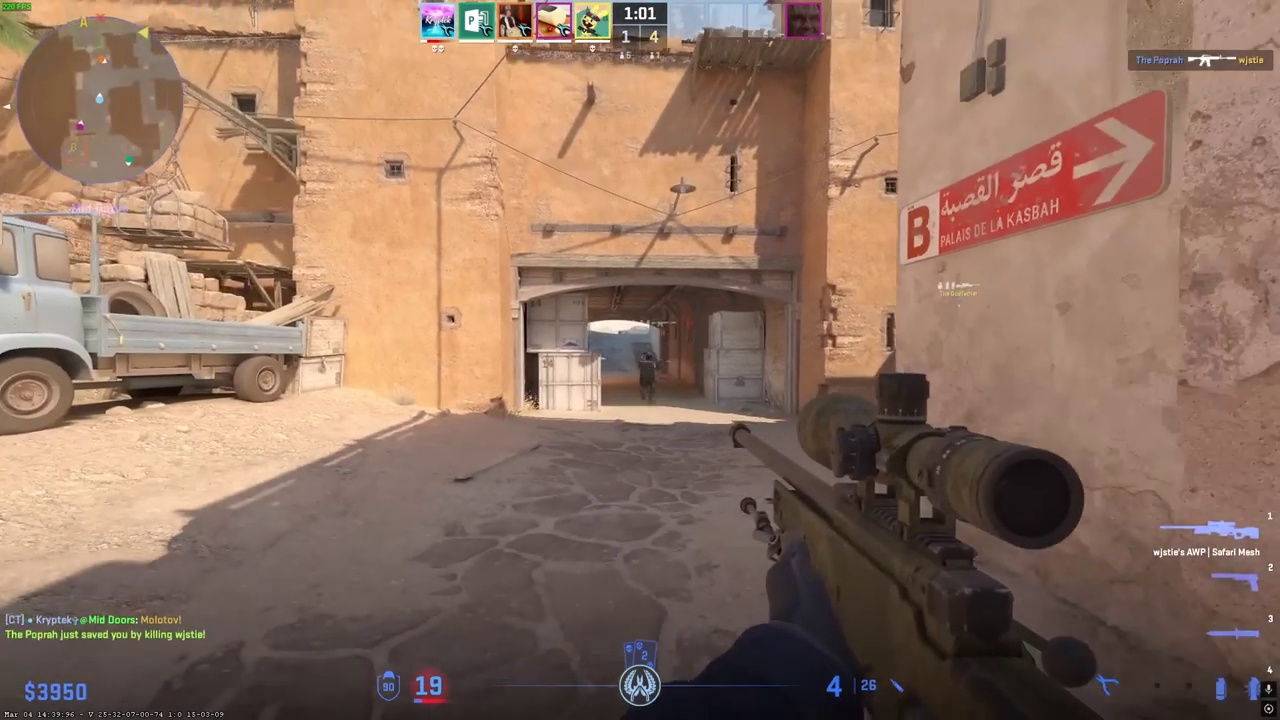CT: (638, 351, 658, 403)
